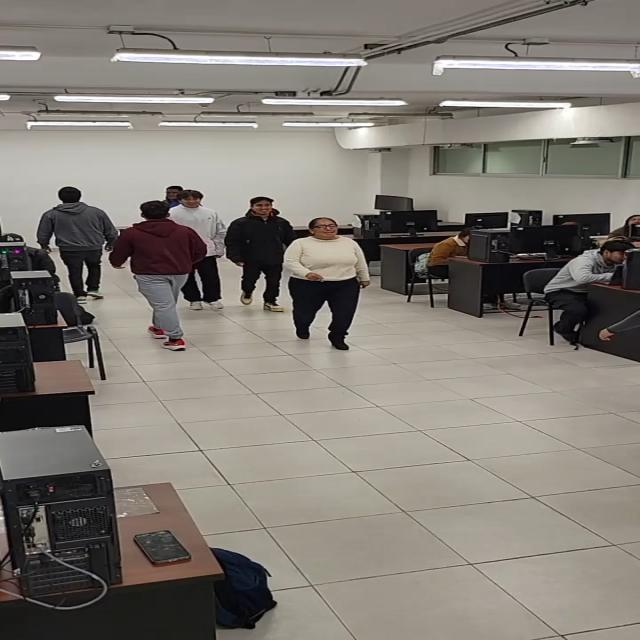Persona: (115, 199, 206, 357), (287, 216, 371, 352), (39, 184, 114, 302), (174, 189, 229, 316), (236, 195, 288, 312)
